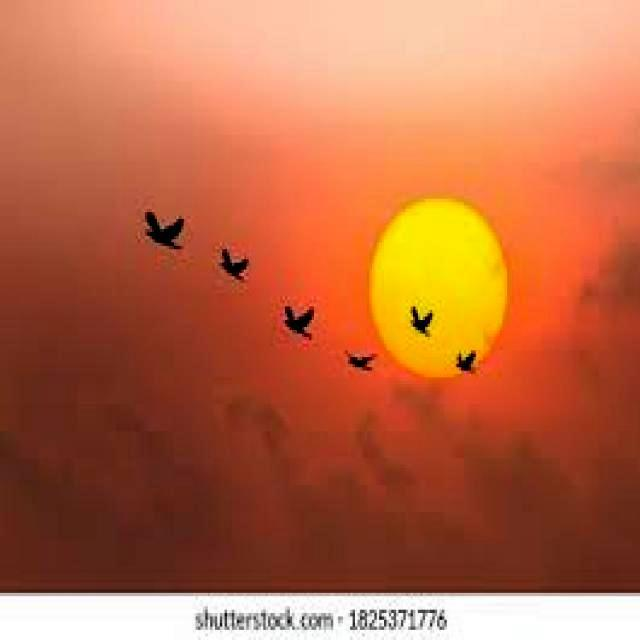bird: (136, 194, 192, 262), (340, 335, 382, 399), (214, 232, 258, 286), (447, 333, 490, 388), (404, 292, 449, 338), (282, 298, 320, 351)
